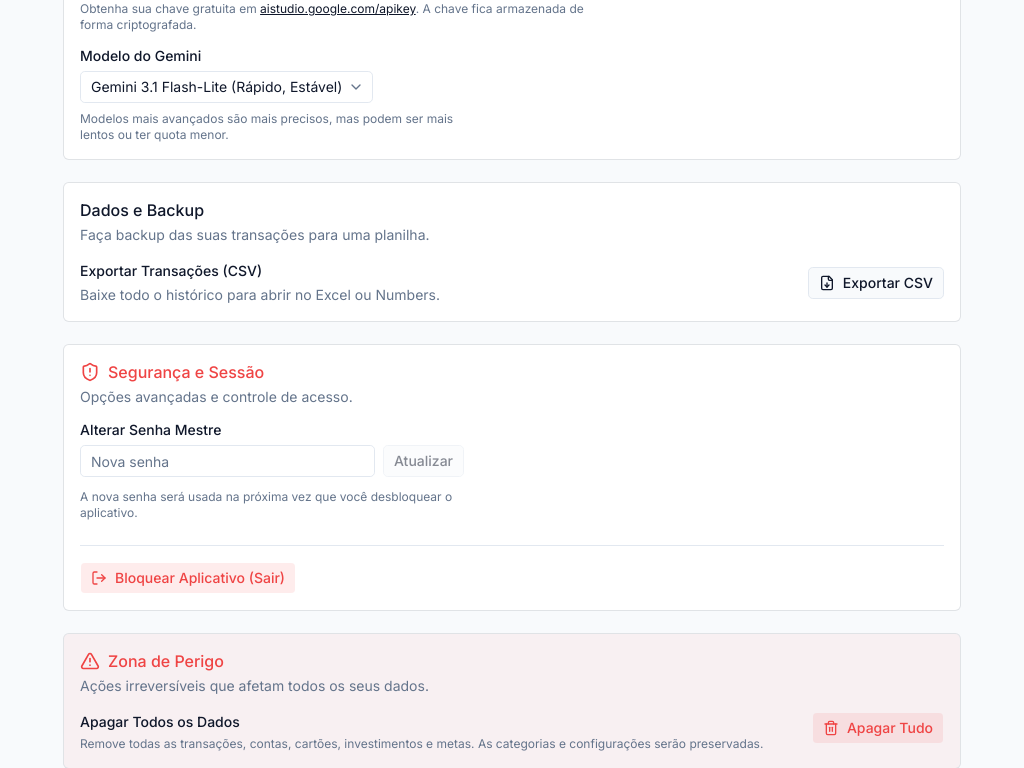
Test: SettingsPage › shows error dialog if changePassword fails
(page scrolled)
In the password field with placeholder "Nova senha": (228, 461) [80,445,375,477], type "senha123"
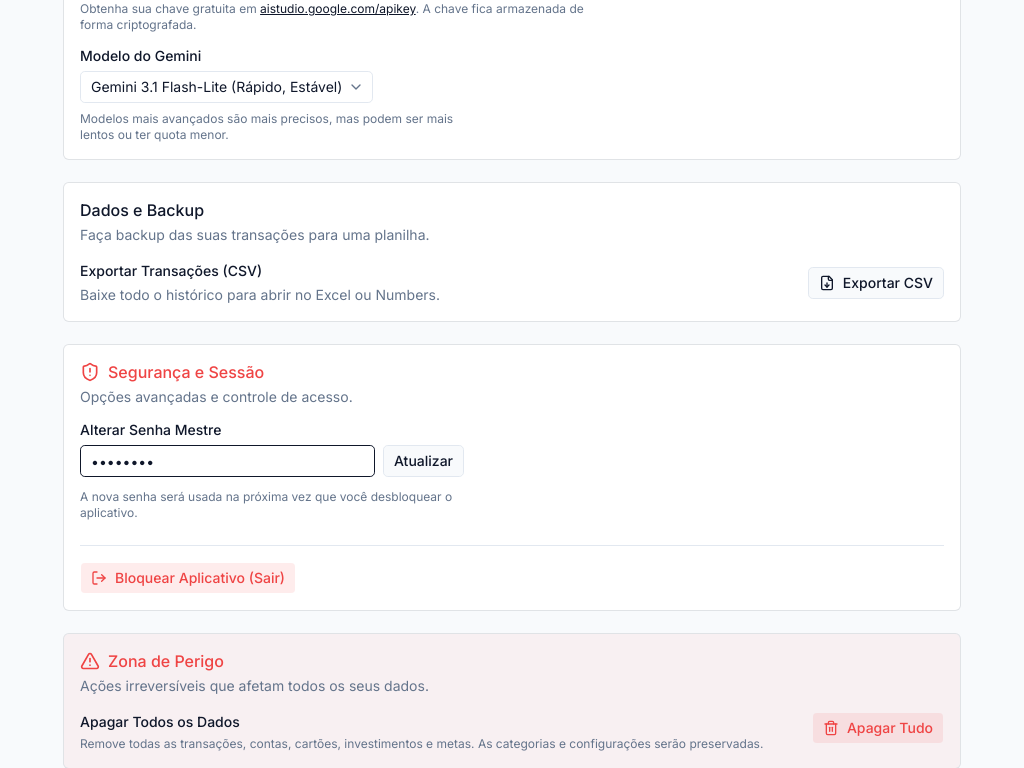
Click the button "Atualizar": (424, 461) [383,445,464,477]
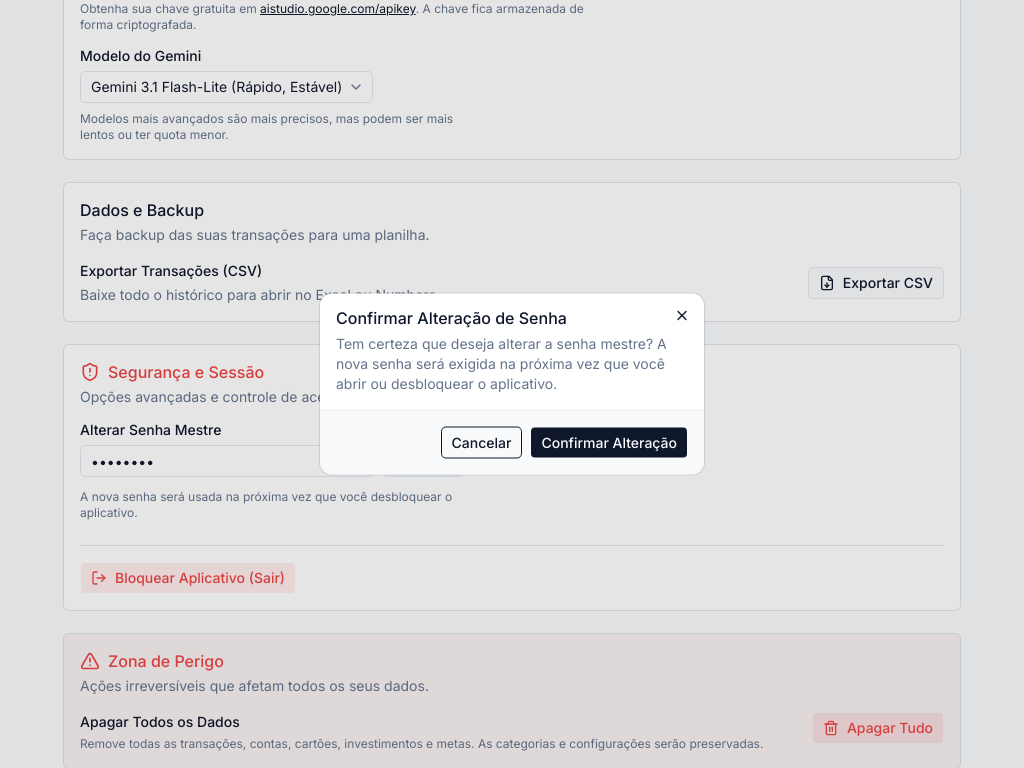
Click the button "Confirmar Alteração": (609, 442) [530,426,688,458]
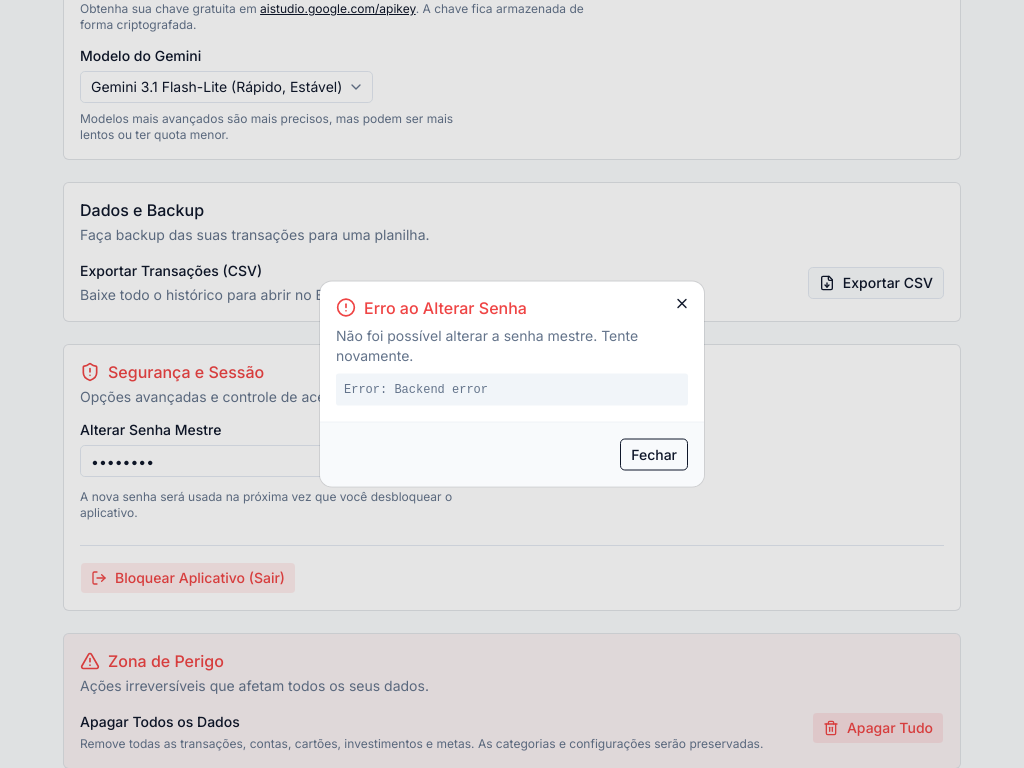
Result: the heading "Erro ao Alterar Senha" is shown at [336,298,527,318]
